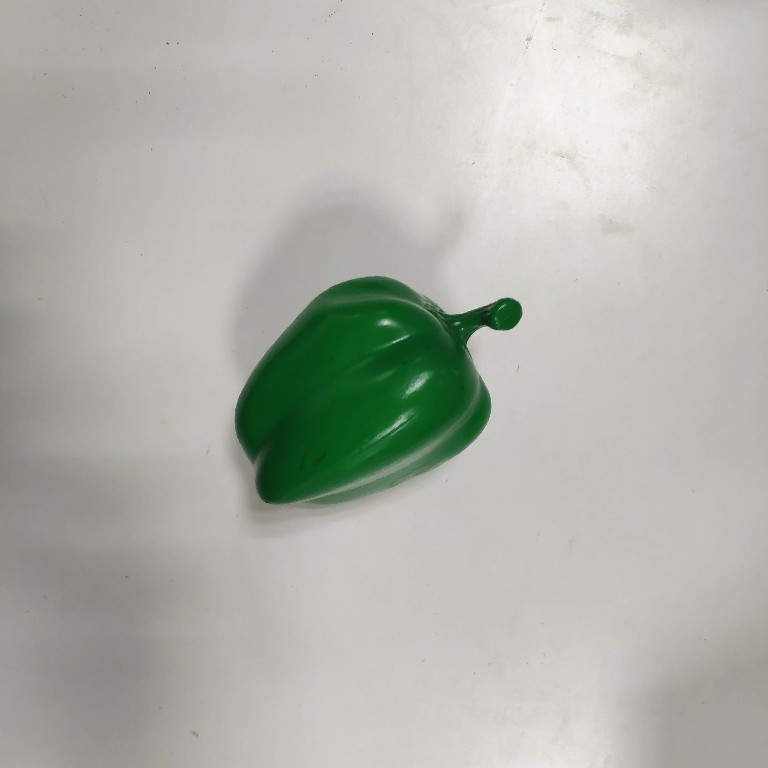fruit_pepper: (226, 271, 528, 513)
